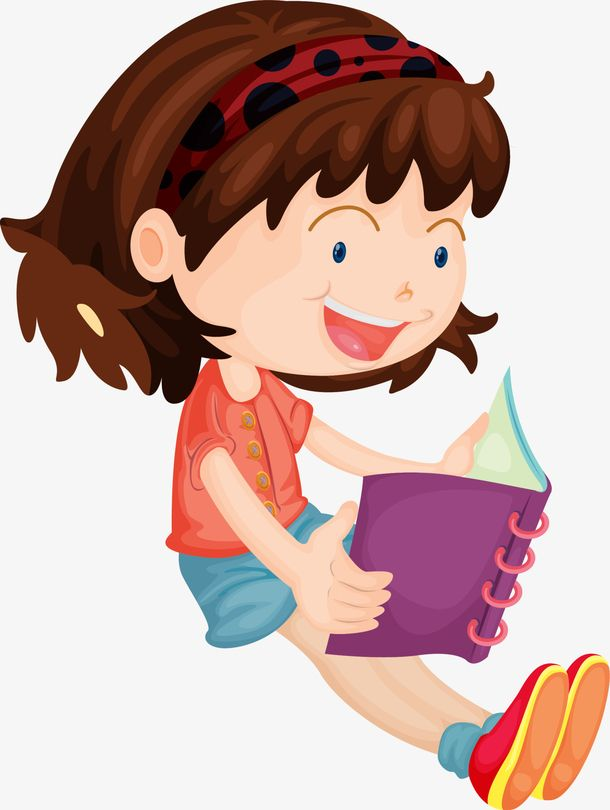book: (277, 361, 559, 670)
